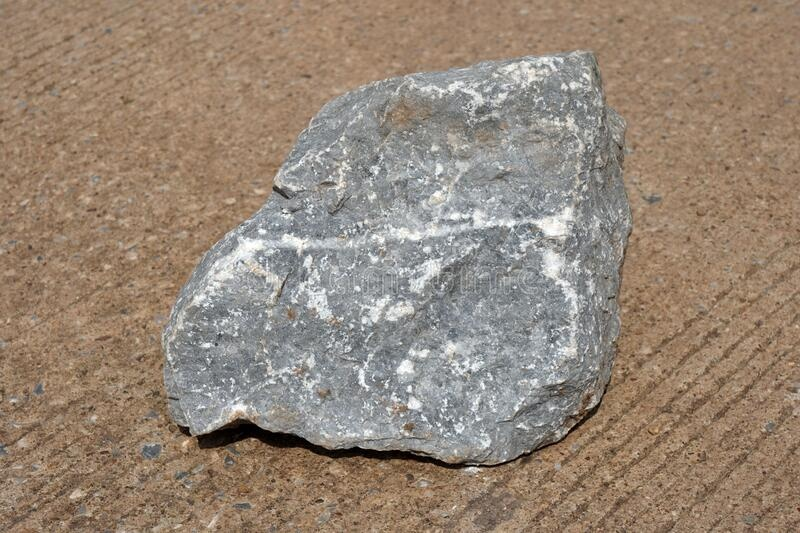obstacle: (163, 52, 630, 464)
